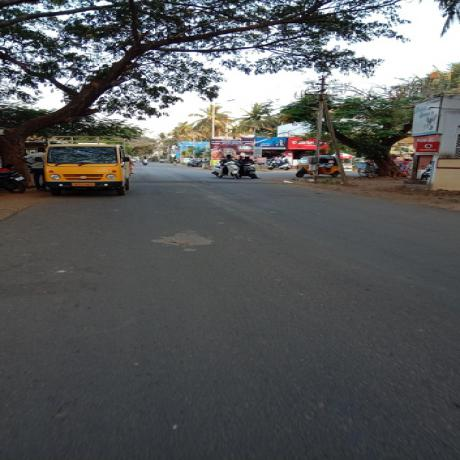Speed Bump: (127, 178, 282, 185)
